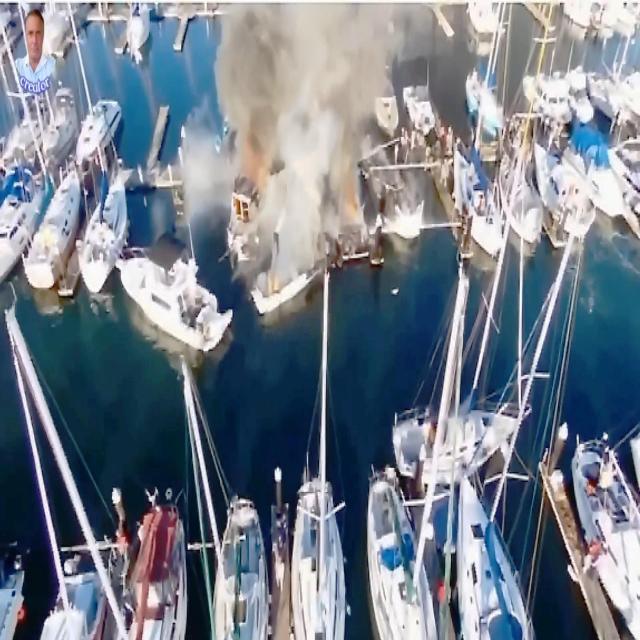Smoke: (224, 0, 364, 126), (286, 0, 340, 257)
